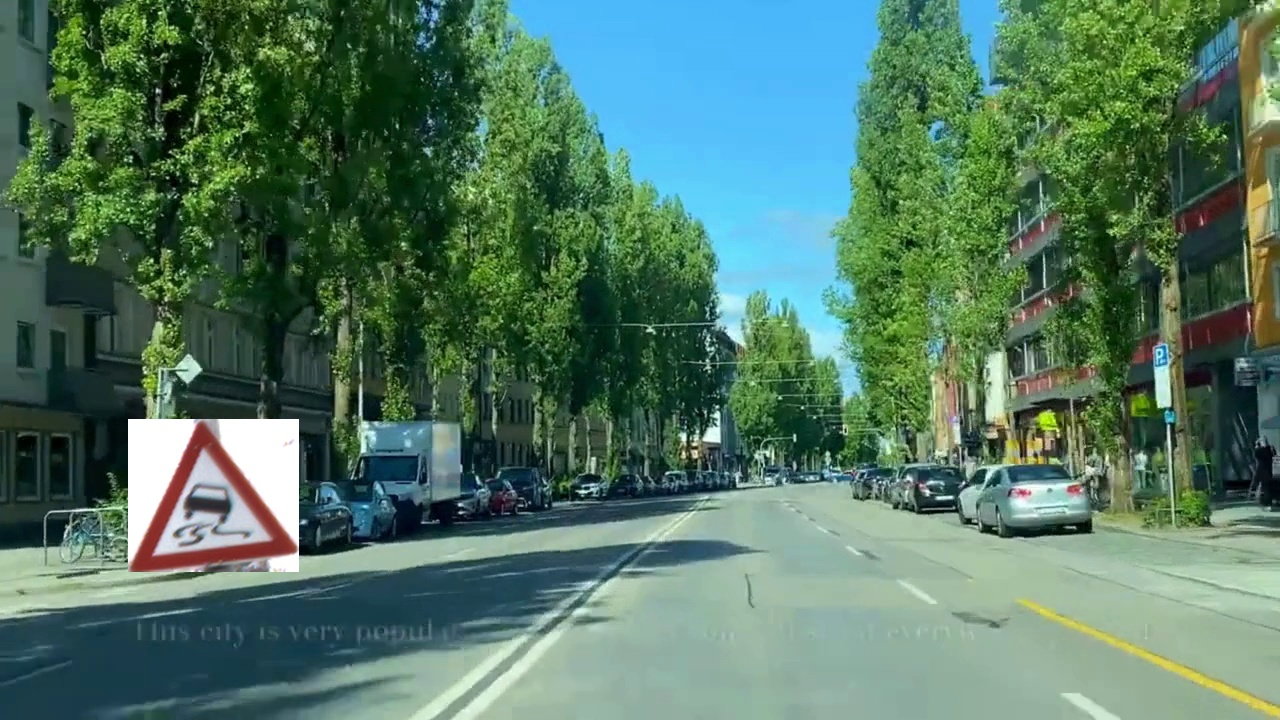Slippery: (128, 419, 299, 572)
